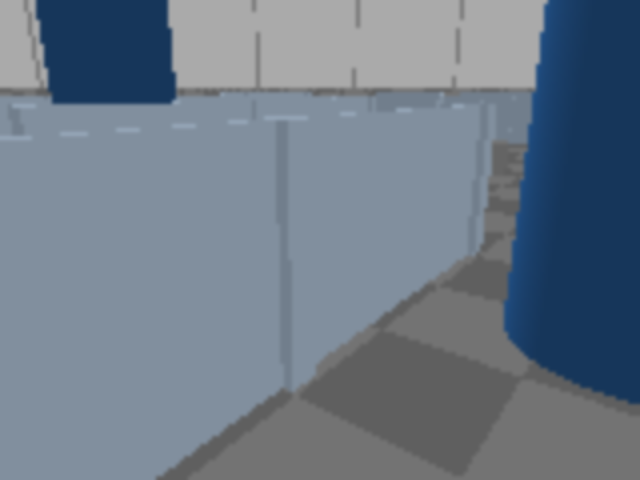person: (508, 0, 638, 395)
